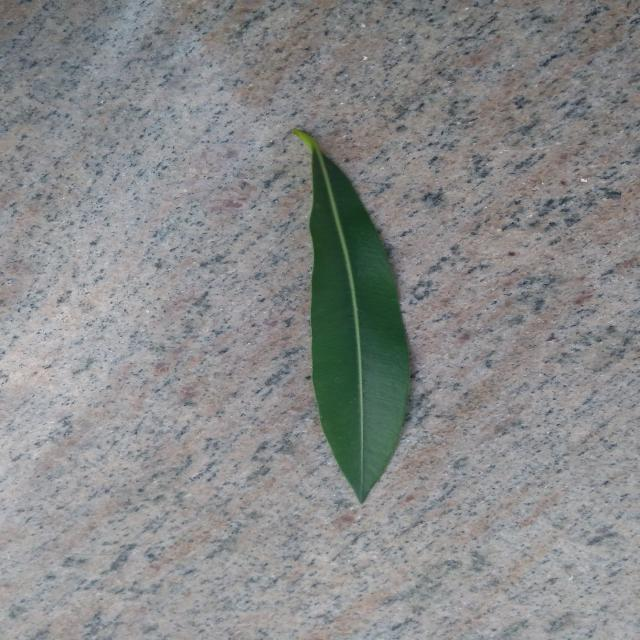ganigale: (293, 129, 409, 502)
